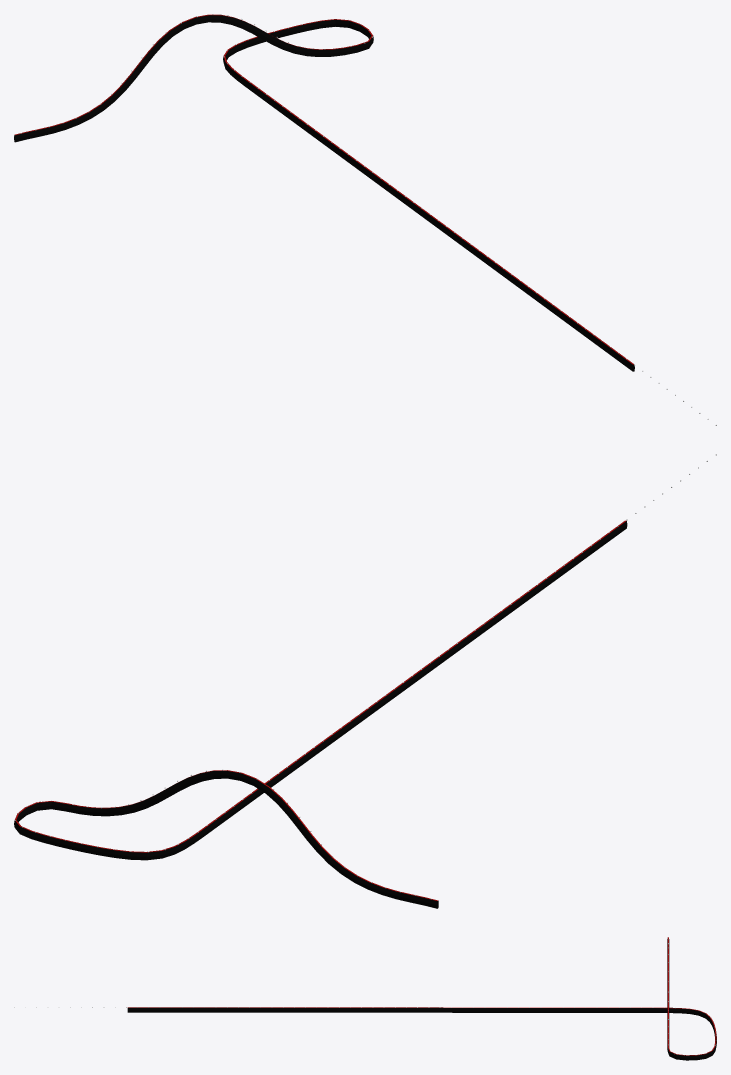
The model's file is RailsTest.fbx.
The picture shows the model from 3 angles, top to bottom: view 1: azimuth 30°, elevation 25°; view 2: azimuth 150°, elevation 25°; view 3: azimuth 270°, elevation 25°; orthographic projection. The views are drawn at different scales.
Parts seen in each view (by area): view 1: Rail; view 2: Rail; view 3: Rail.
Boxes of the visible parts, x1,y1,x2,y2 form: Rail: [14, 14, 634, 371]; Rail: [14, 520, 627, 908]; Rail: [127, 937, 716, 1060].
Bounding box in the file's own units: 109 × 23.08 × 264.
